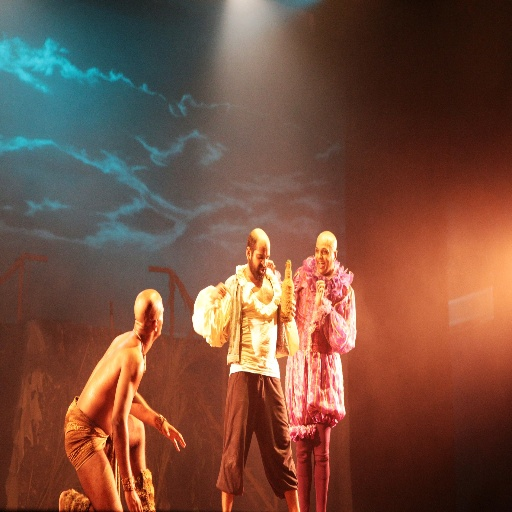hand: (160, 417, 186, 453), (272, 296, 296, 318), (210, 282, 231, 303), (124, 488, 143, 511), (312, 277, 325, 306)
